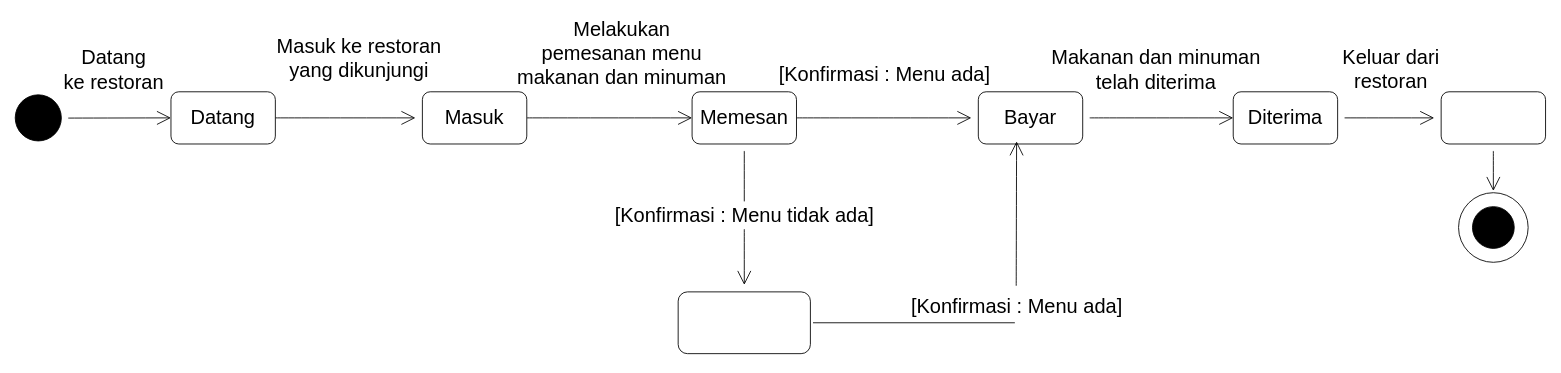
Image size: 1561x373. Some labels were removed from this diagram. Here are the shapes that lost their labels. From the top down, the centre of each, then its label:
At (x=1493, y=117): "Keluar".
At (x=743, y=322): "Memesan menu yang lain".
